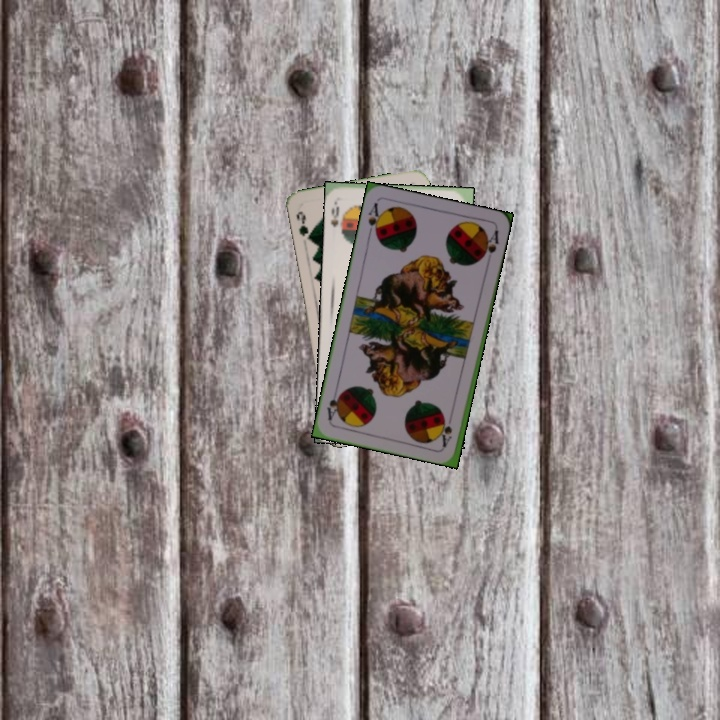G9: (292, 207, 313, 244)
SA: (364, 199, 384, 240), (438, 408, 455, 449)
SO: (327, 197, 347, 238)
